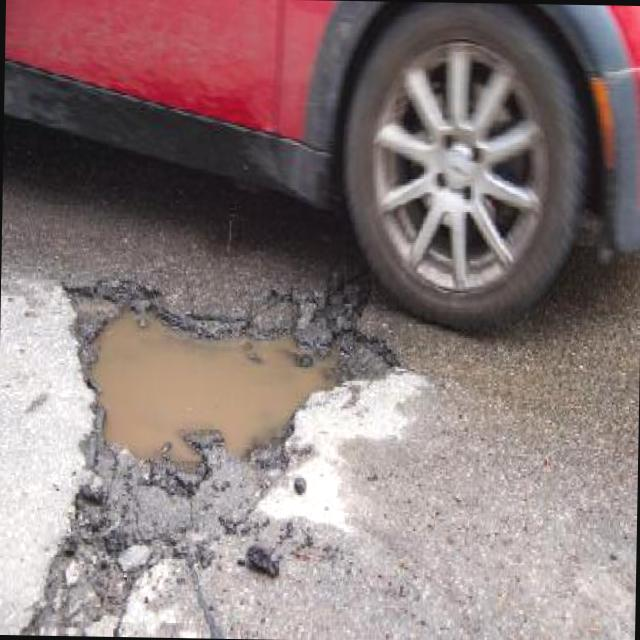Lubang: (67, 280, 396, 466)
